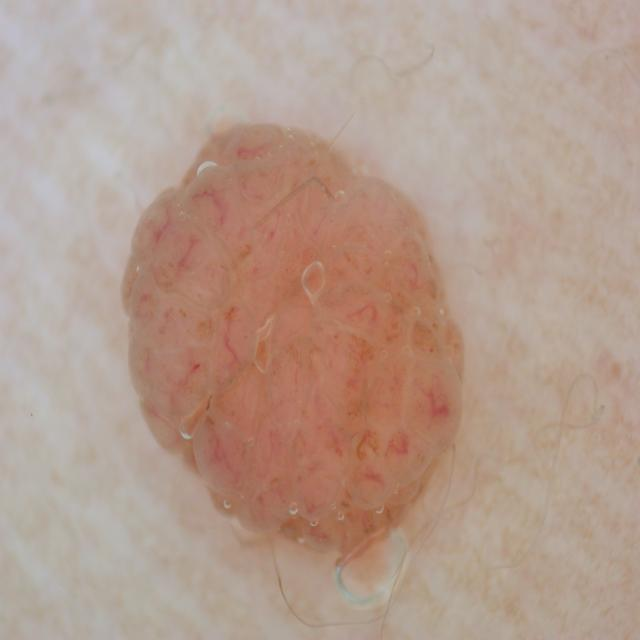Benign: (118, 112, 474, 568)
